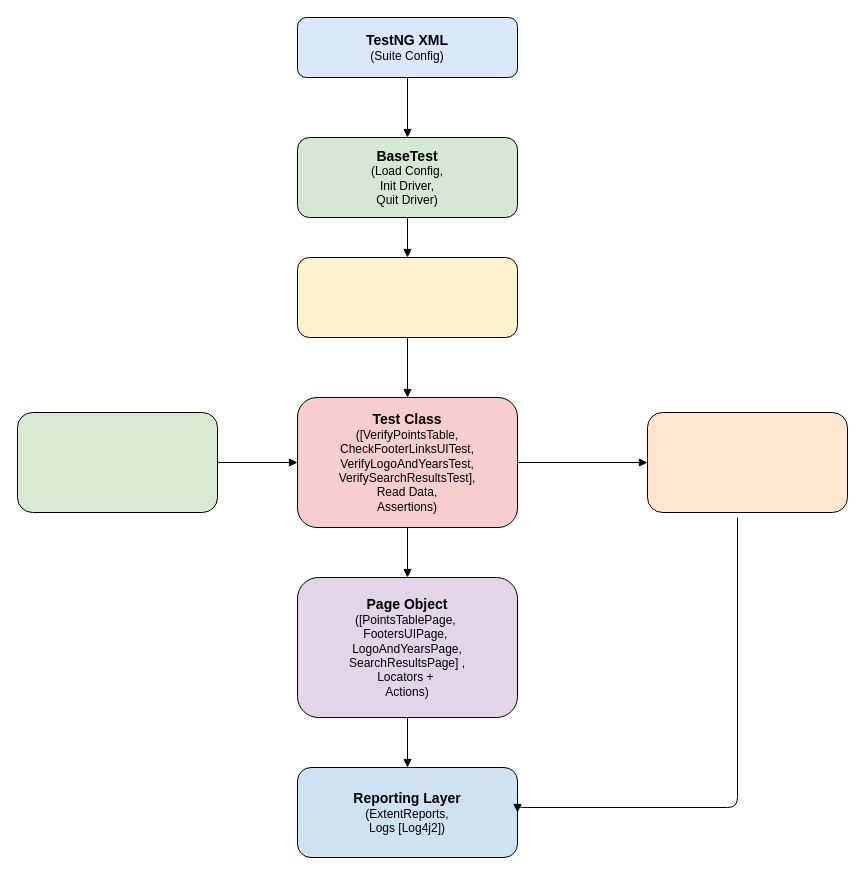
This 865x875 diagram has some shape labels left out. The shapes that lost their labels are listed below. From the top down, each one's centre as x and y in pixels, then its label:
pixel 407 297: DriverFactory (ThreadLocal WebDriver, Browser Init)
pixel 117 462: Utilities (ConfigReader, TestDataUtils, TestUtils)
pixel 747 462: Listeners (ITestListener, Screenshots, Logging)
